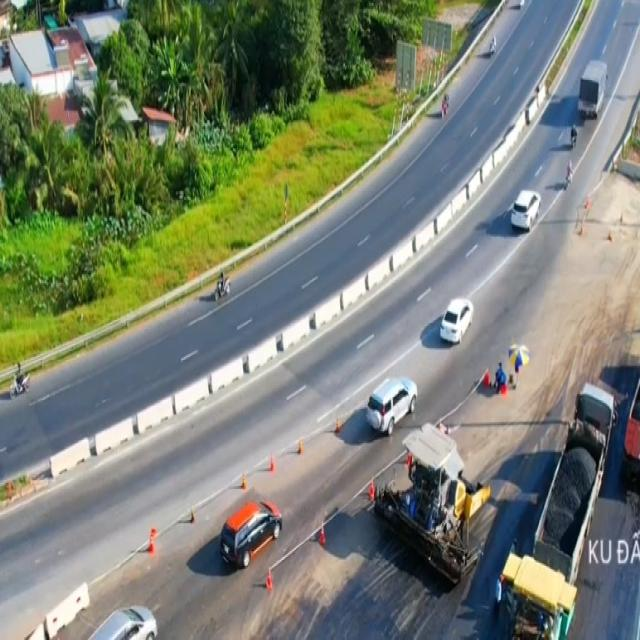car: (218, 495, 281, 571), (368, 374, 418, 433), (439, 296, 475, 346), (509, 185, 543, 233)
motorbike: (9, 364, 28, 398), (217, 271, 230, 305)
truck: (578, 61, 608, 120)
